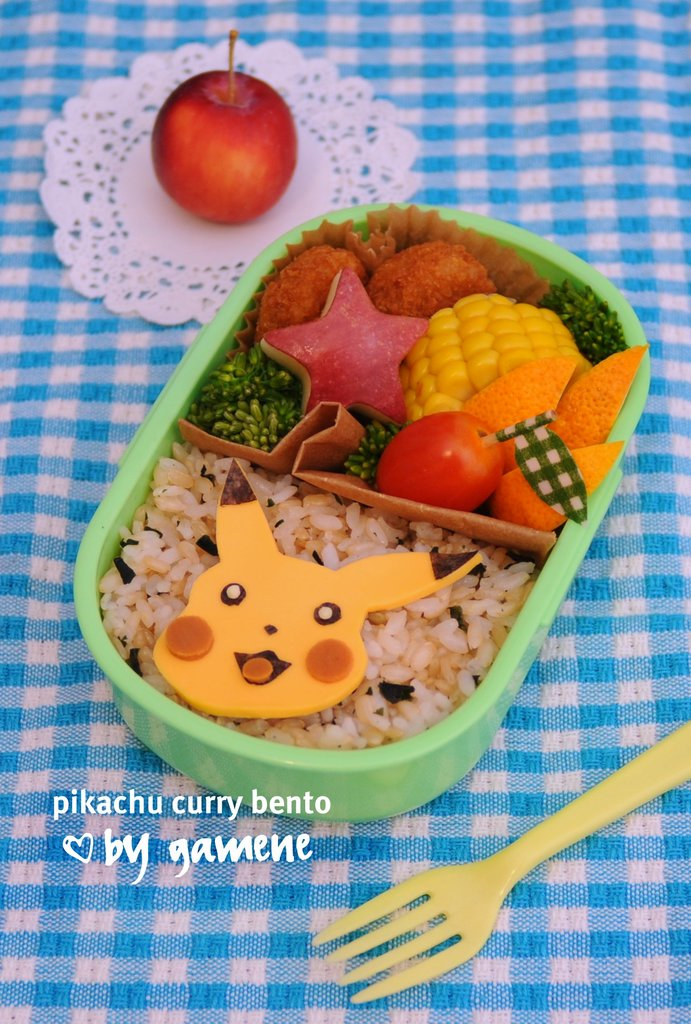Apple: (149, 56, 308, 224)
